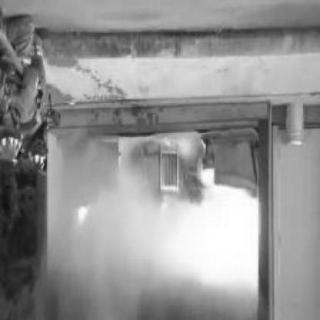Fire: (52, 130, 262, 306)
